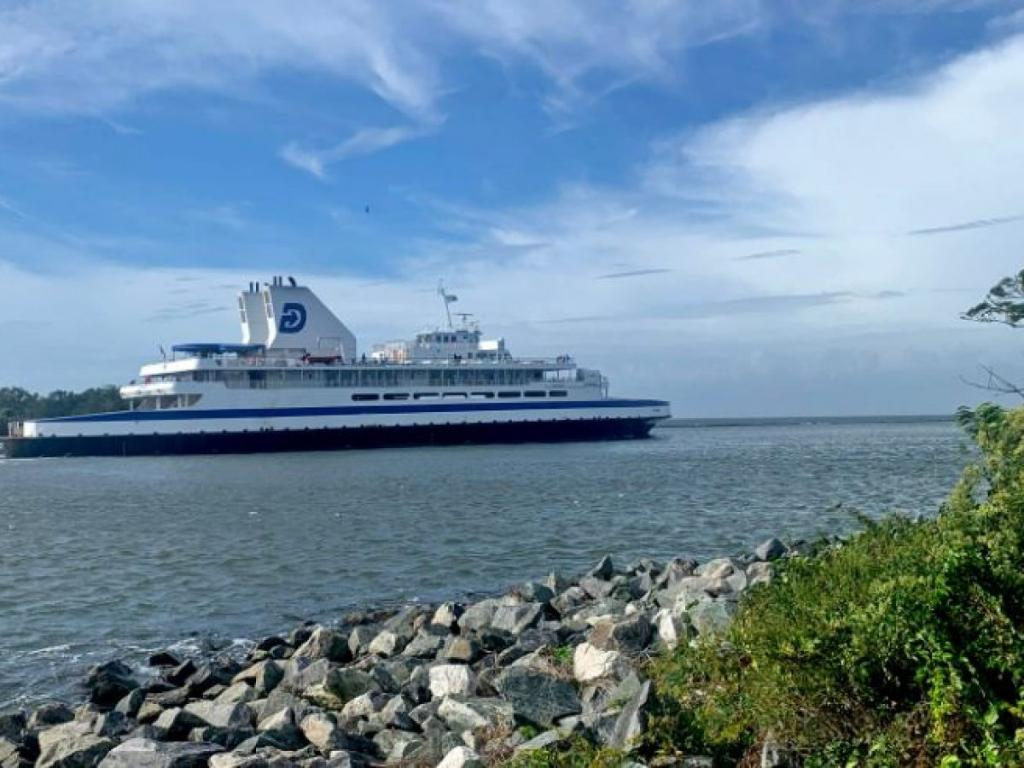PassengerShip: (0, 259, 686, 461)
